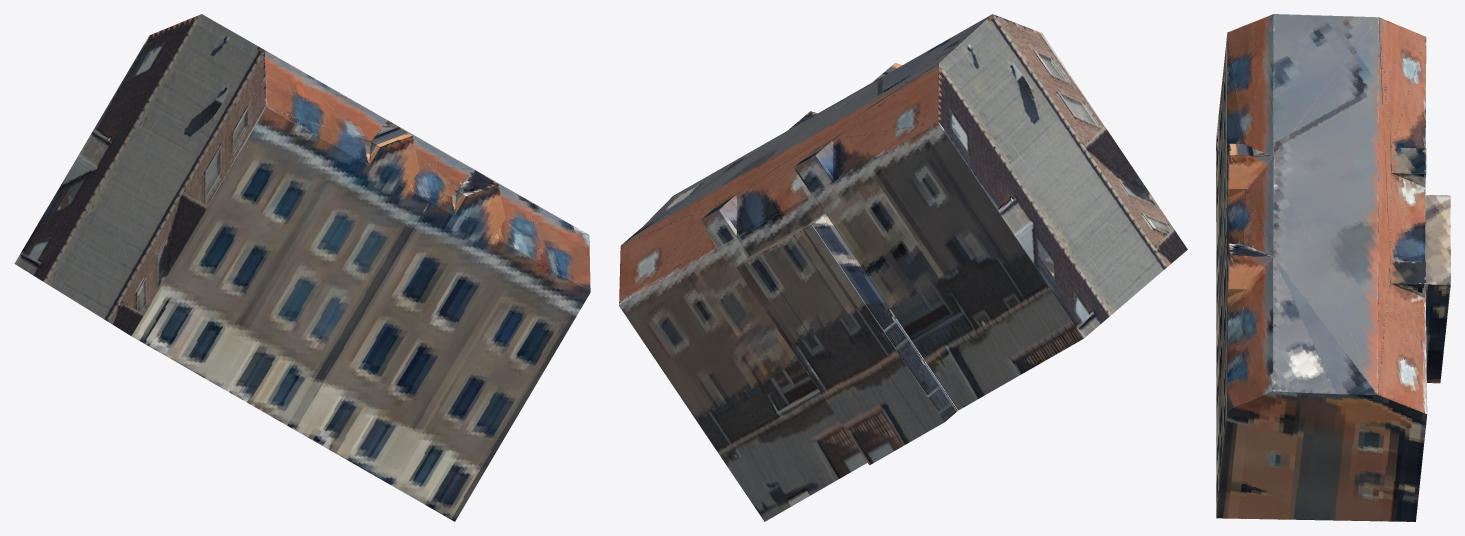
The picture shows the model from 3 angles, left to right: view 1: azimuth 30°, elevation 25°; view 2: azimuth 150°, elevation 25°; view 3: azimuth 270°, elevation 25°; orthographic projection. The views are drawn at different scales.
Visible parts, largest first — view 1: BAG_0599100000688733 (×5); view 2: BAG_0599100000688733 (×7); view 3: BAG_0599100000688733 (×8).
Part boxes in pixels (<box>): BAG_0599100000688733 (×5): <box>14,14,590,521</box>; BAG_0599100000688733 (×7): <box>619,14,1187,521</box>; BAG_0599100000688733 (×8): <box>1216,14,1450,521</box>.
Bounding box in the file's own units: 23.44 × 22.31 × 10.75.
9 materials, 9 textured.
